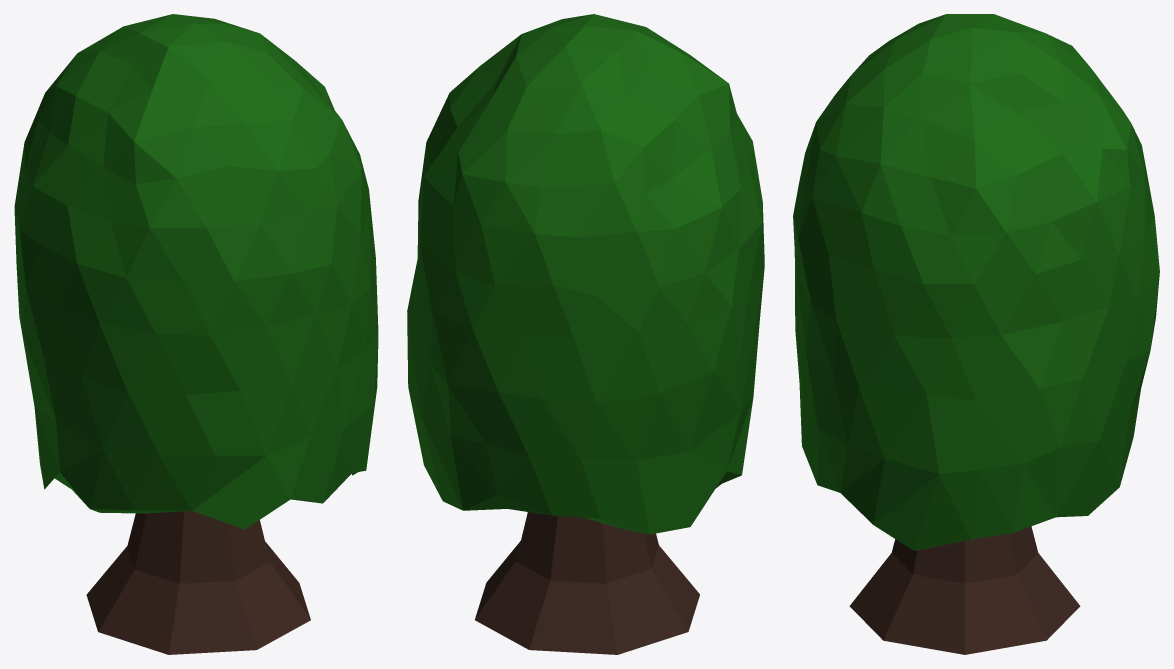
File: BigTree_01.fbx
3 views of the same model, side by side, from view 1: azimuth 30°, elevation 25°; view 2: azimuth 150°, elevation 25°; view 3: azimuth 270°, elevation 25° (orthographic).
Visible parts, largest first — view 1: Circle; view 2: Circle; view 3: Circle.
Part boxes in pixels (left/top/right/bottom): Circle: left=14, top=14, right=378, bottom=654; Circle: left=407, top=14, right=764, bottom=654; Circle: left=793, top=14, right=1159, bottom=654.
Bounding box in the file's own units: 533 × 950 × 547.
